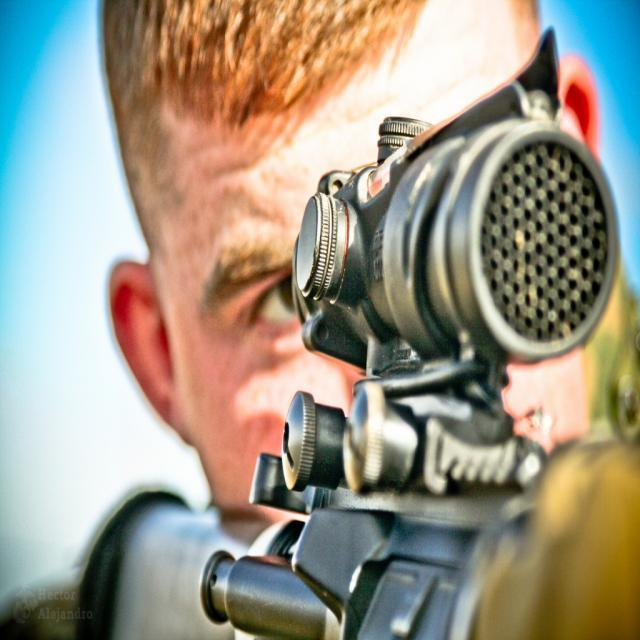weapon: (72, 39, 639, 634)
